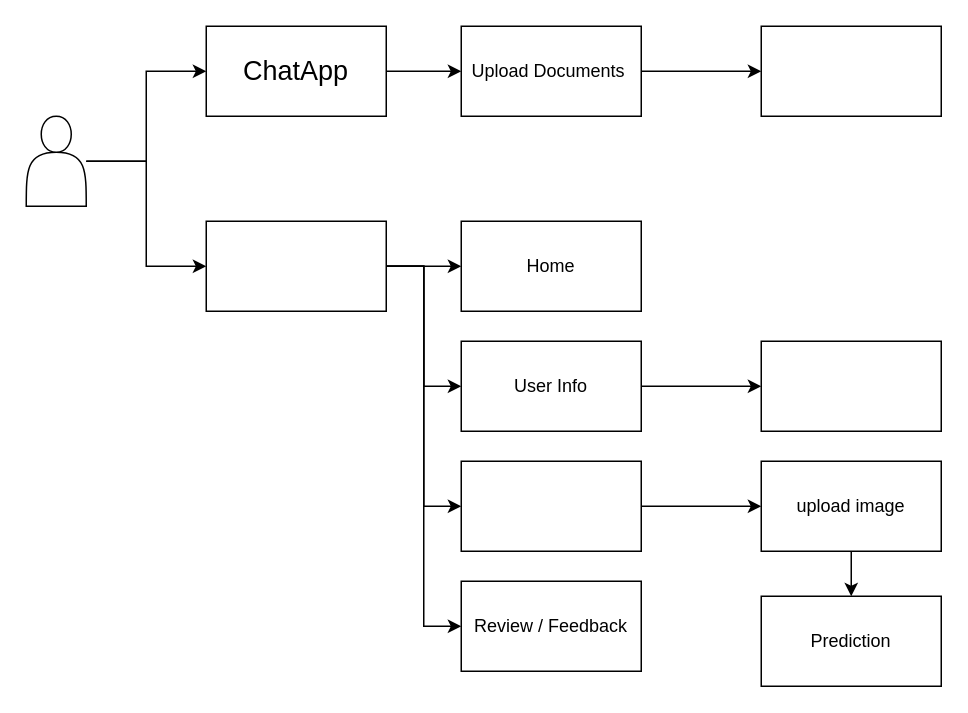
Image size: 968x713. Some labels were removed from this diagram. Here are the shapes that lost their labels. From the top down, the centre of each, then its label:
At (x=850, y=70): "Ask Queries".
At (x=295, y=265): "MedGuide".
At (x=850, y=385): "Add Information".
At (x=550, y=505): "Xray Upload".
